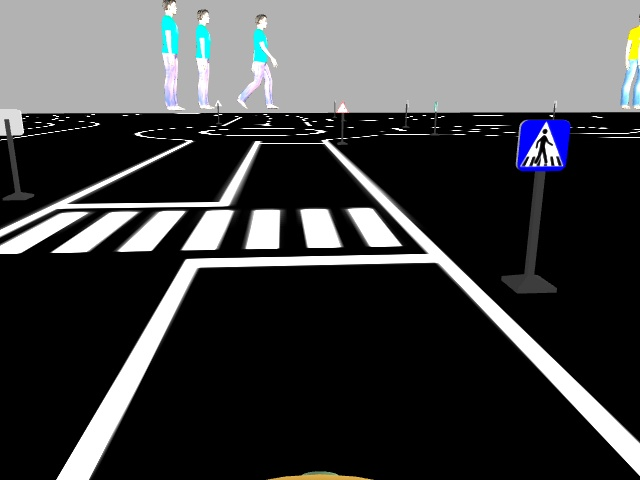Crosswalk: (517, 118, 570, 172)
